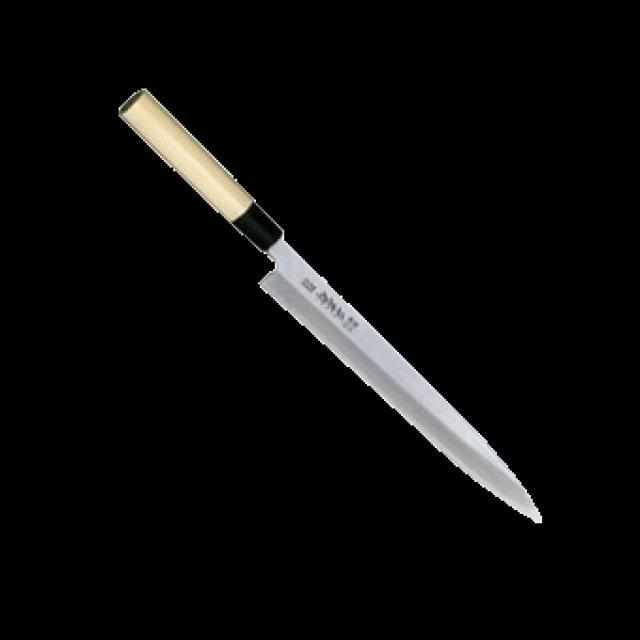knife: (113, 85, 547, 532)
